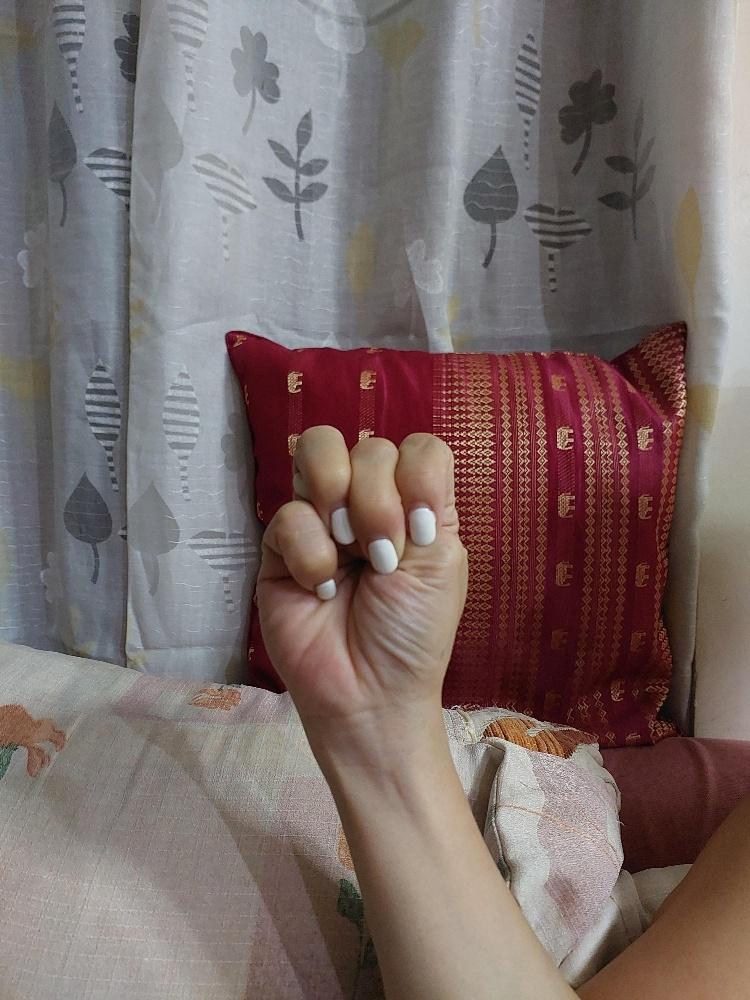m: (253, 419, 476, 719)
